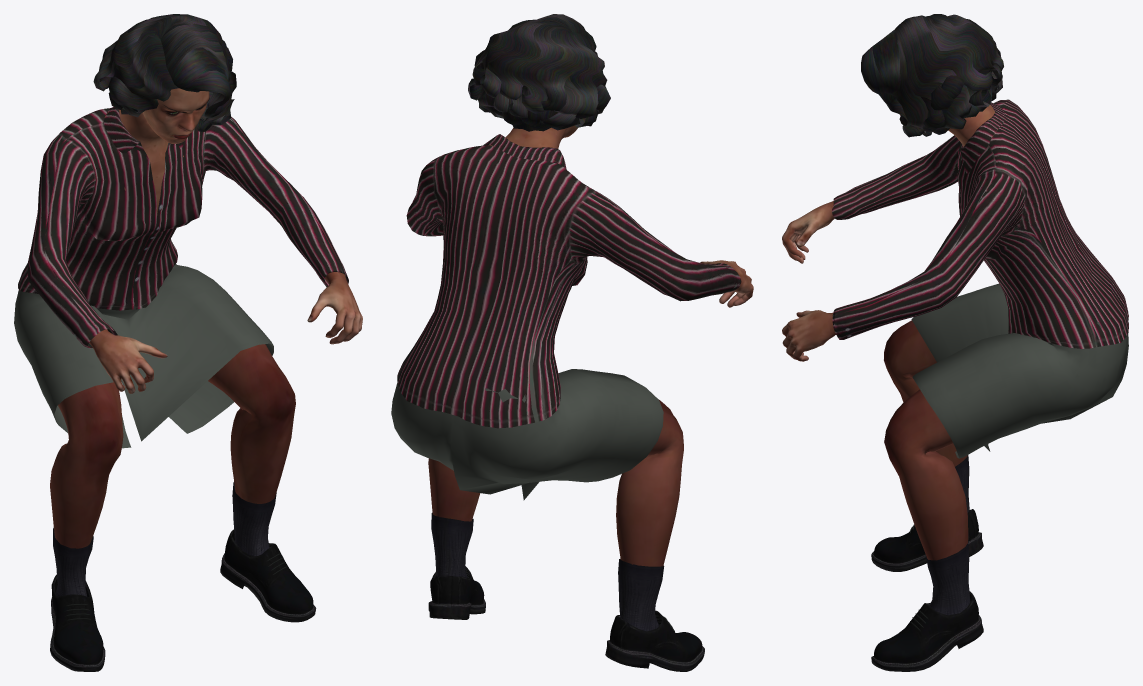
File: donna-03.glb
3 renders of one model, left to right at view 1: azimuth 30°, elevation 25°; view 2: azimuth 150°, elevation 25°; view 3: azimuth 270°, elevation 25°, orthographic. The views are drawn at different scales.
Parts seen in each view (by area): view 1: Human.female_elegantsuit01, Human, Human.shoes03, Human.elvs_wavy_bob; view 2: Human.female_elegantsuit01, Human.elvs_wavy_bob, Human, Human.shoes03; view 3: Human.female_elegantsuit01, Human, Human.elvs_wavy_bob, Human.shoes03.
Boxes of the visible parts, box(x1,y1,x2,y2) form: Human.female_elegantsuit01: box(14, 107, 348, 448); Human: box(50, 88, 362, 548); Human.shoes03: box(50, 481, 316, 671); Human.elvs_wavy_bob: box(93, 14, 236, 132); Human.female_elegantsuit01: box(391, 134, 741, 500); Human.elvs_wavy_bob: box(468, 14, 610, 131); Human: box(428, 125, 753, 566); Human.shoes03: box(428, 512, 704, 671); Human.female_elegantsuit01: box(832, 99, 1128, 458); Human: box(782, 105, 997, 560); Human.elvs_wavy_bob: box(861, 14, 1003, 137); Human.shoes03: box(871, 455, 983, 671).
Bounding box in the file's own units: 0.6348 × 1.31 × 0.6895.
12 materials, 12 textured.
